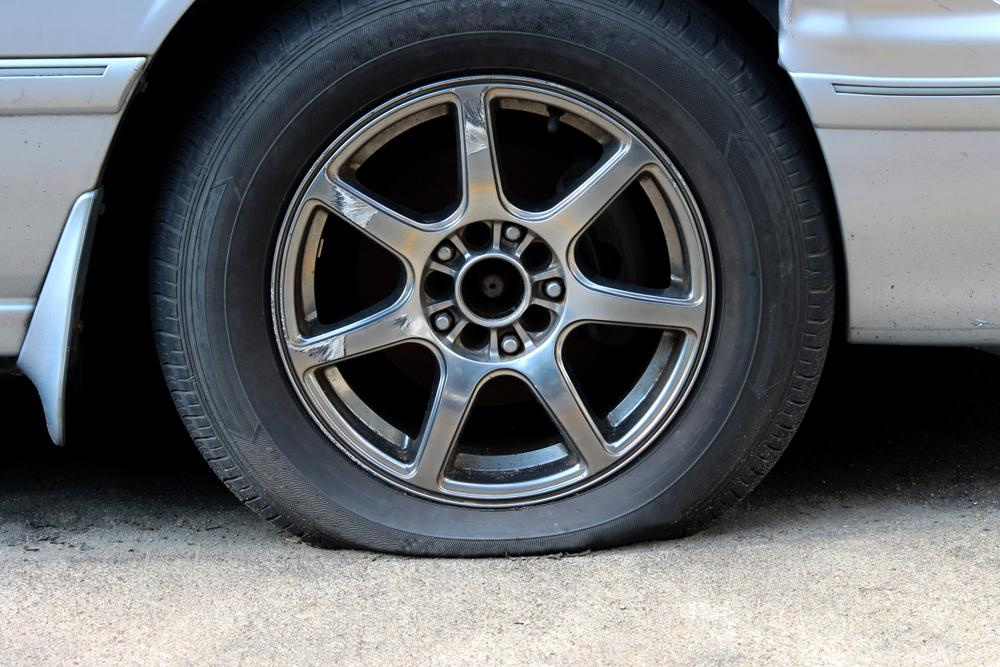tire flat: (153, 0, 833, 555)
